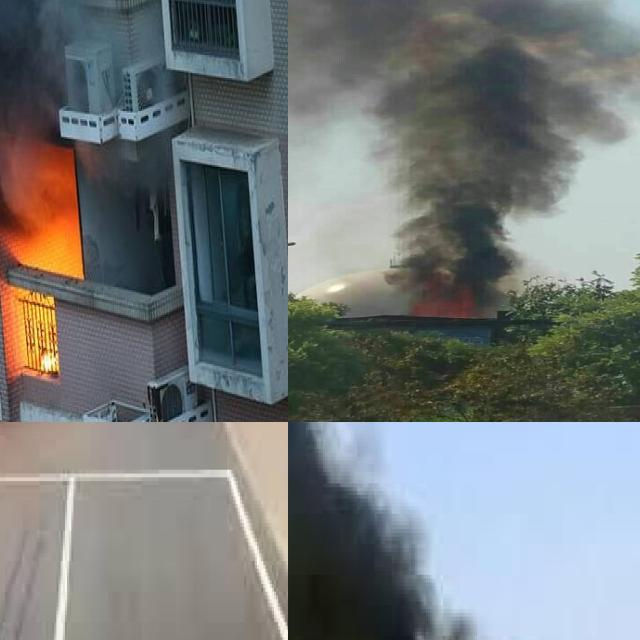fire: (0, 137, 88, 390), (393, 258, 502, 334)
smoke: (288, 0, 640, 294), (288, 422, 434, 640), (0, 0, 100, 130)
